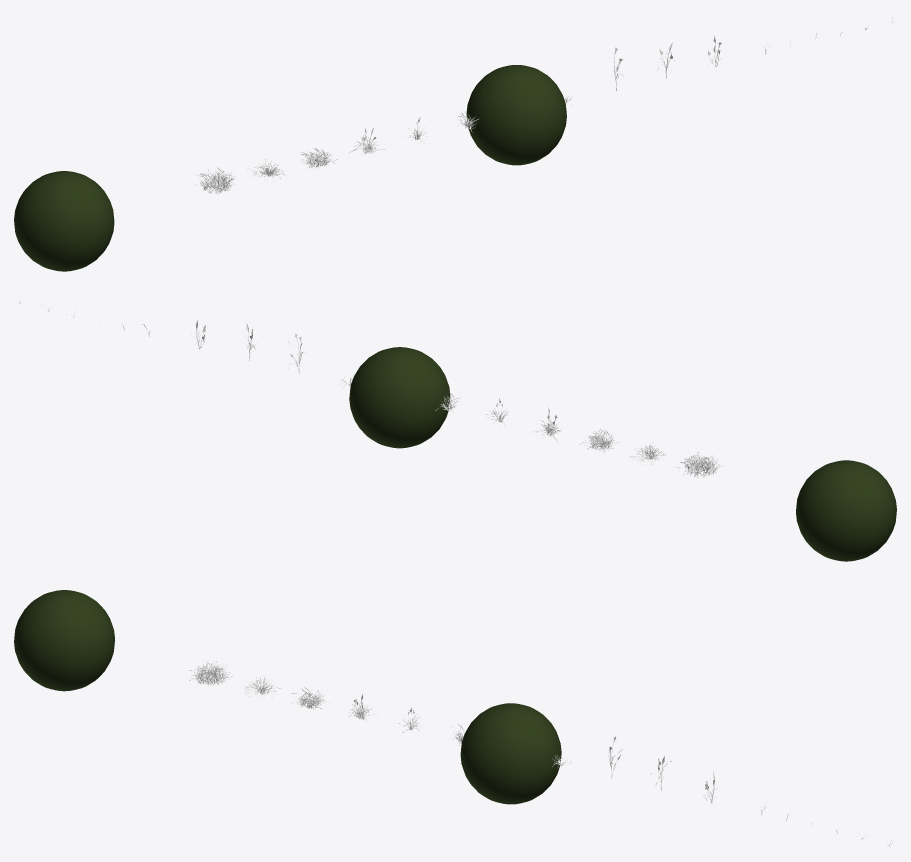
Rendered from grass_medium_01.glb.
The picture shows the model from 3 angles, top to bottom: view 1: azimuth 30°, elevation 25°; view 2: azimuth 150°, elevation 25°; view 3: azimuth 330°, elevation 25°; orthographic projection.
Visible parts, largest first — view 1: grass_medium_01_geometry_nodes, Sphere.001, grass_medium_01_geonodes_large_a_LOD0; view 2: grass_medium_01_geometry_nodes, Sphere.001, grass_medium_01_geonodes_large_a_LOD0; view 3: grass_medium_01_geometry_nodes, Sphere.001, grass_medium_01_geonodes_large_a_LOD0.
Part boxes in pixels (<box>): grass_medium_01_geometry_nodes: <box>14,171,114,271</box>; Sphere.001: <box>466,65,566,165</box>; grass_medium_01_geonodes_large_a_LOD0: <box>195,166,234,195</box>; grass_medium_01_geometry_nodes: <box>796,460,896,561</box>; Sphere.001: <box>349,347,450,448</box>; grass_medium_01_geonodes_large_a_LOD0: <box>677,451,722,477</box>; grass_medium_01_geometry_nodes: <box>14,590,114,691</box>; Sphere.001: <box>460,703,561,804</box>; grass_medium_01_geonodes_large_a_LOD0: <box>188,660,234,685</box>.
Size of what is drawn, in the model's own units: 7 by 0.7 by 0.7606.
2 materials, 1 textured.
